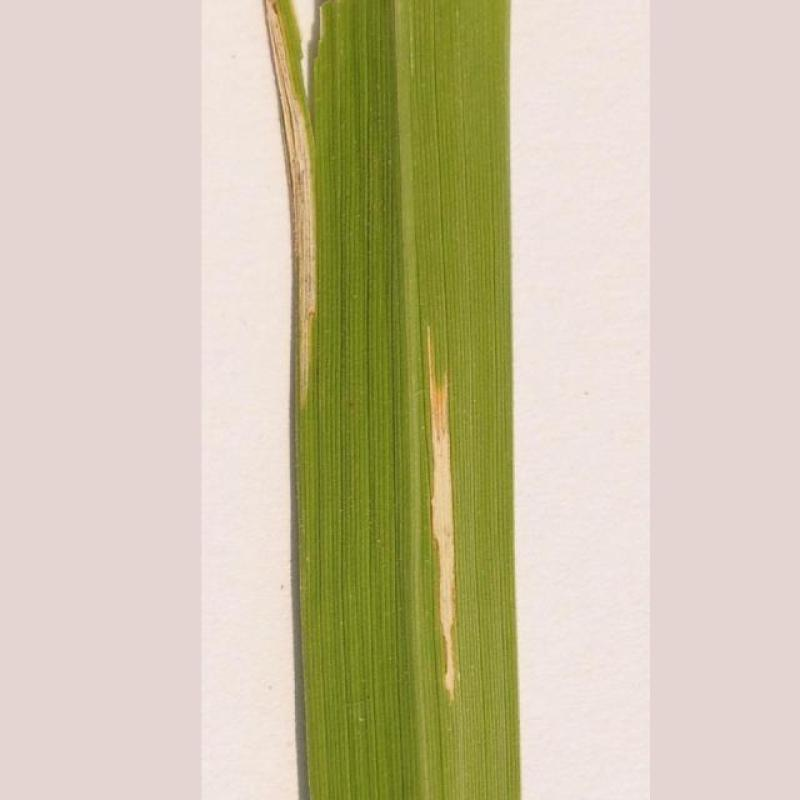Bacterial_Leaf_Blight: (239, 0, 366, 410), (405, 322, 489, 693)
